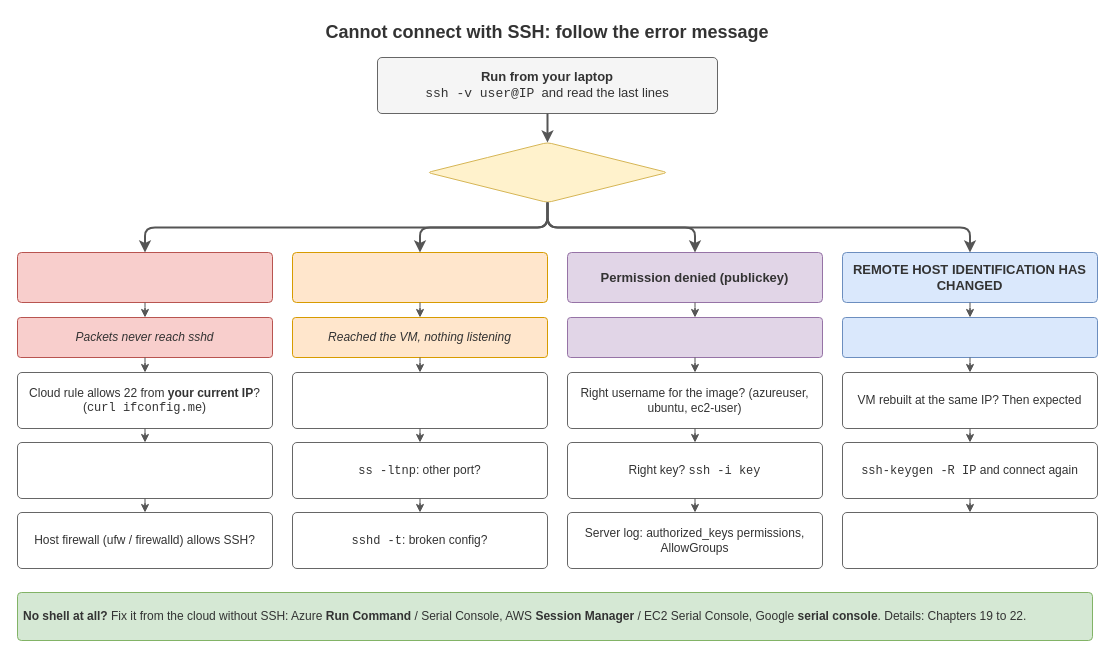
The diagram is 1115 pixels wide and 658 high, and some of its shapes have lost their labels. The centre of each missing label's shape, as x and y in pixels:
"Connection refused" belongs at point 420,277.
"Connection timed out" belongs at point 144,277.
"Fingerprint differs from known_hosts" belongs at point 970,337.
"Not rebuilt? Stop and investigate" belongs at point 970,540.
"Server rejected your key" belongs at point 694,337.
"systemctl status ssh (sshd on Red Hat)" belongs at point 420,400.
"VM running, public IP attached?" belongs at point 144,470.
"What does the error say?" belongs at point 547,172.
